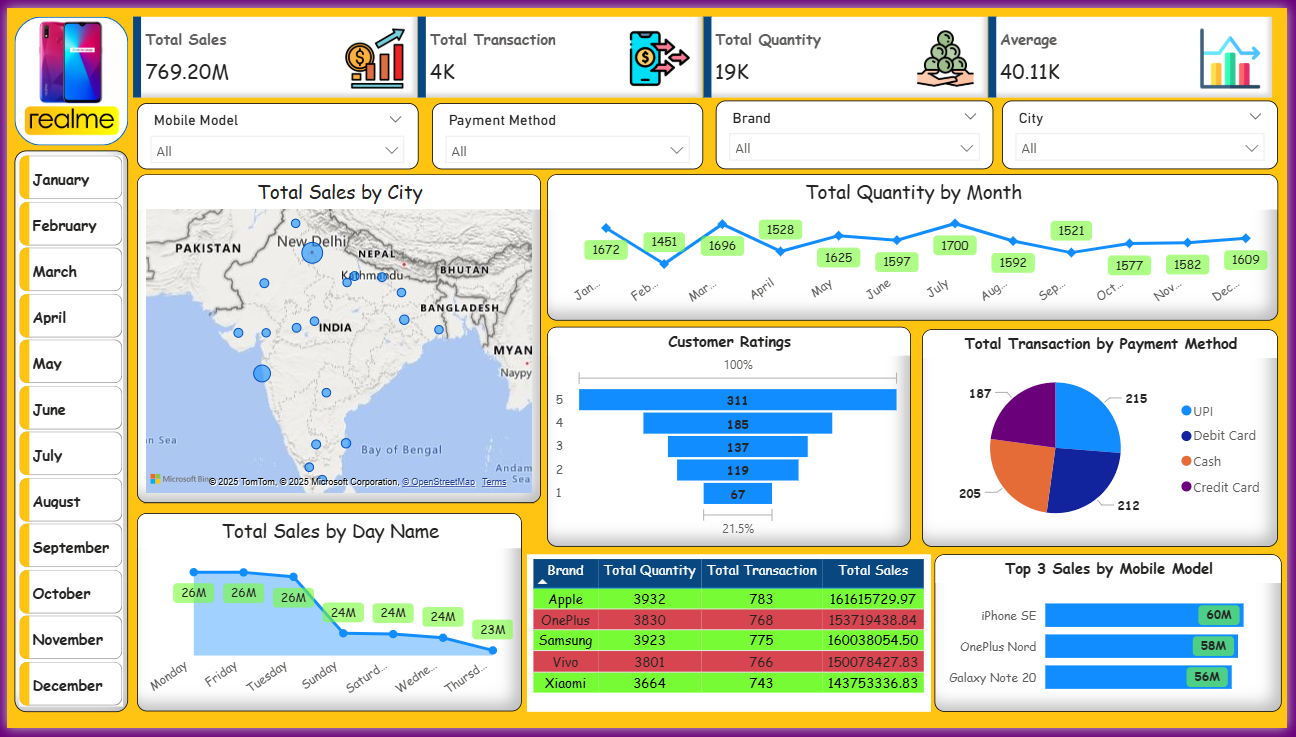

The dashboard page shown, as its layout file describes it:
{"tool":"powerbi","page":{"name":"Page 1","canvas":[1280,720],"ordinal":0},"visuals":[{"type":"shape","box":[7.5,8.8,113.8,128.8],"z":0},{"type":"shape","box":[7.5,142.5,113.8,561.2],"z":1000},{"type":"advancedSlicerVisual","fields":{"Values":["Sheet1.Date.Variation.Date Hierarchy.Month"]},"box":[7.5,142.5,113.8,561.2],"z":2000},{"type":"cardVisual","fields":{"Data":["Sales_Data.Total Sales","Sales_Data.Total Transaction","Sales_Data.Total Quantity","Sales_Data.Average"]},"box":[121.2,3.8,1150,91.2],"z":3000},{"type":"map","fields":{"Category":["Sales_Data.City"],"Size":["Sales_Data.Total Sales"]},"box":[130,166.2,403.8,328.8],"z":4000},{"type":"lineChart","fields":{"Y":["Sales_Data.Total Quantity"],"Category":["Sales_Data.Date.Variation.Date Hierarchy.Month","Sales_Data.Date.Variation.Date Hierarchy.Day"]},"box":[540,166.2,731.2,146.2],"z":5000},{"type":"clusteredBarChart","title":"Top 3 Sales by Mobile Model","fields":{"Category":["Sales_Data.Mobile Model"],"Y":["Sales_Data.Total Sales"]},"box":[927.5,546.2,347.5,157.5],"z":6000},{"type":"pieChart","fields":{"Y":["Sales_Data.Total Transaction"],"Category":["Sales_Data.Payment Method"]},"box":[915,321.2,356.2,217.5],"z":7000},{"type":"funnel","title":"Customer Ratings","fields":{"Category":["Sales_Data.Customer Ratings"],"Y":["CountNonNull(Sales_Data.Customer Ratings)"]},"box":[540,318.8,363.8,220],"z":8000},{"type":"areaChart","title":"Total Sales by Day Name","fields":{"Category":["Sales_Data.Day Name"],"Y":["Sales_Data.Total Sales"]},"box":[130,505,385,198.8],"z":9000},{"type":"tableEx","fields":{"Values":["Sales_Data.Brand","Sales_Data.Total Quantity","Sales_Data.Total Transaction","Sales_Data.Total Sales"]},"box":[520,546.2,403.8,157.5],"z":10000},{"type":"slicer","fields":{"Values":["Sales_Data.Mobile Model"]},"box":[130,95,281.2,66.2],"z":11000},{"type":"slicer","fields":{"Values":["Sales_Data.Payment Method"]},"box":[425,95,271.2,66.2],"z":12000},{"type":"slicer","fields":{"Values":["Sales_Data.Brand"]},"box":[708.8,92.5,277.5,68.8],"z":13000},{"type":"slicer","fields":{"Values":["Sales_Data.City"]},"box":[995,92.5,276.2,68.8],"z":14000},{"type":"image","box":[7.2,8.4,113.4,91.7],"z":15000},{"type":"image","box":[0,57.9,130.3,111],"z":16000}]}

Visuals, with their boxes in screenshot pixels (x1, y1, x2, y2), scaled from the page's 1280x720 canvas onto the 1296x737 screenshot:
shape: 8,9,123,141
shape: 8,146,123,720
advancedSlicerVisual - Sheet1.Date.Variation.Date Hierarchy.Month: 8,146,123,720
cardVisual - Sales_Data.Total Sales x Sales_Data.Total Transaction: 123,4,1287,97
map - Sales_Data.City x Sales_Data.Total Sales: 132,170,540,507
lineChart - Sales_Data.Total Quantity x Sales_Data.Date.Variation.Date Hierarchy.Month: 547,170,1287,320
"Top 3 Sales by Mobile Model" clusteredBarChart: 939,559,1291,720
pieChart - Sales_Data.Total Transaction x Sales_Data.Payment Method: 926,329,1287,551
"Customer Ratings" funnel: 547,326,915,552
"Total Sales by Day Name" areaChart: 132,517,521,720
tableEx - Sales_Data.Brand x Sales_Data.Total Quantity: 526,559,935,720
slicer - Sales_Data.Mobile Model: 132,97,416,165
slicer - Sales_Data.Payment Method: 430,97,705,165
slicer - Sales_Data.Brand: 718,95,999,165
slicer - Sales_Data.City: 1007,95,1287,165
image: 7,9,122,102
image: 0,59,132,173
